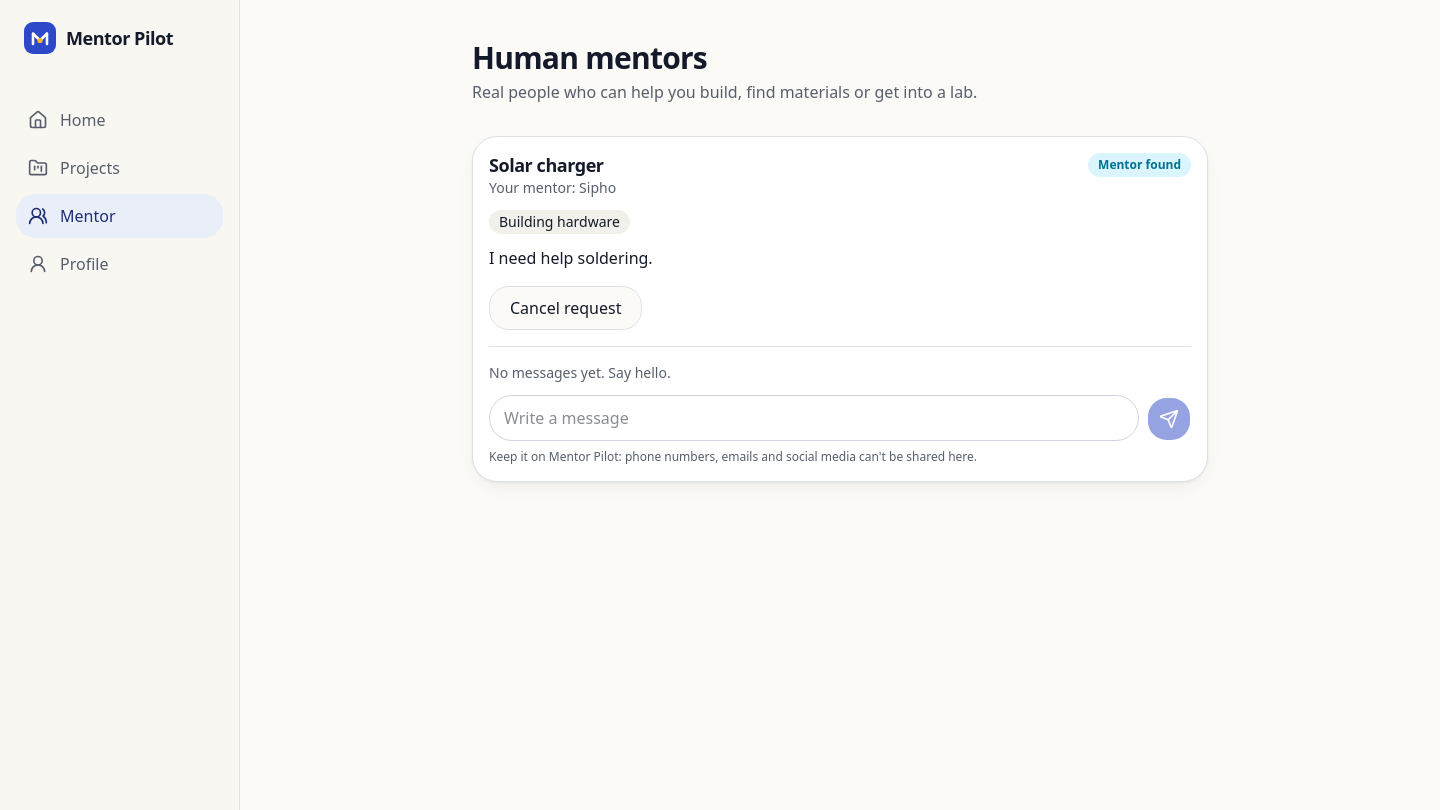
Test: learner and mentor messaging › explains why a message with contact details was refused
Type "Call me on 082 555 0142" into the text box labelled "message" at [814, 418], box [489,395,1139,441]
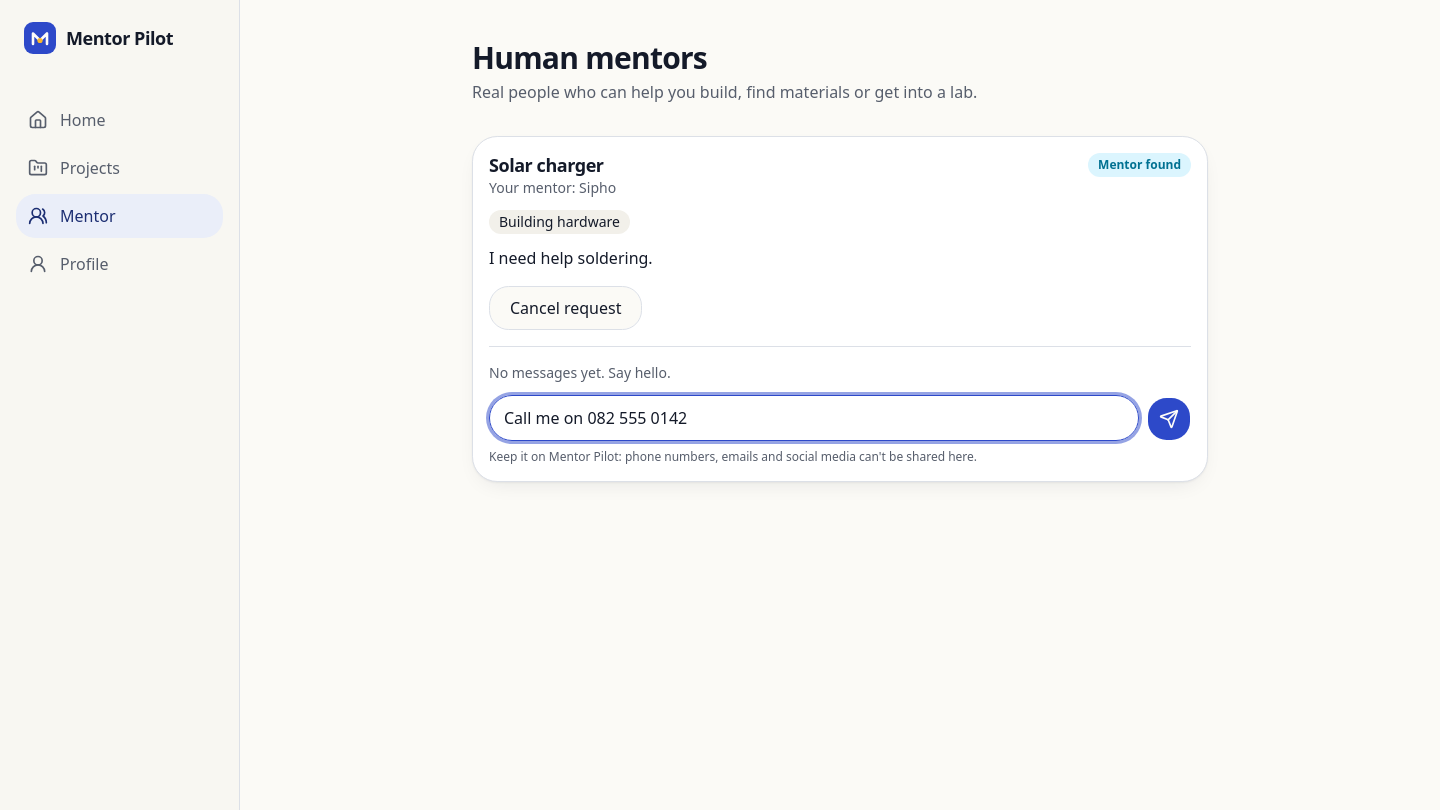
Click the button named "Send" at [1169, 419], box [1147,397,1191,441]
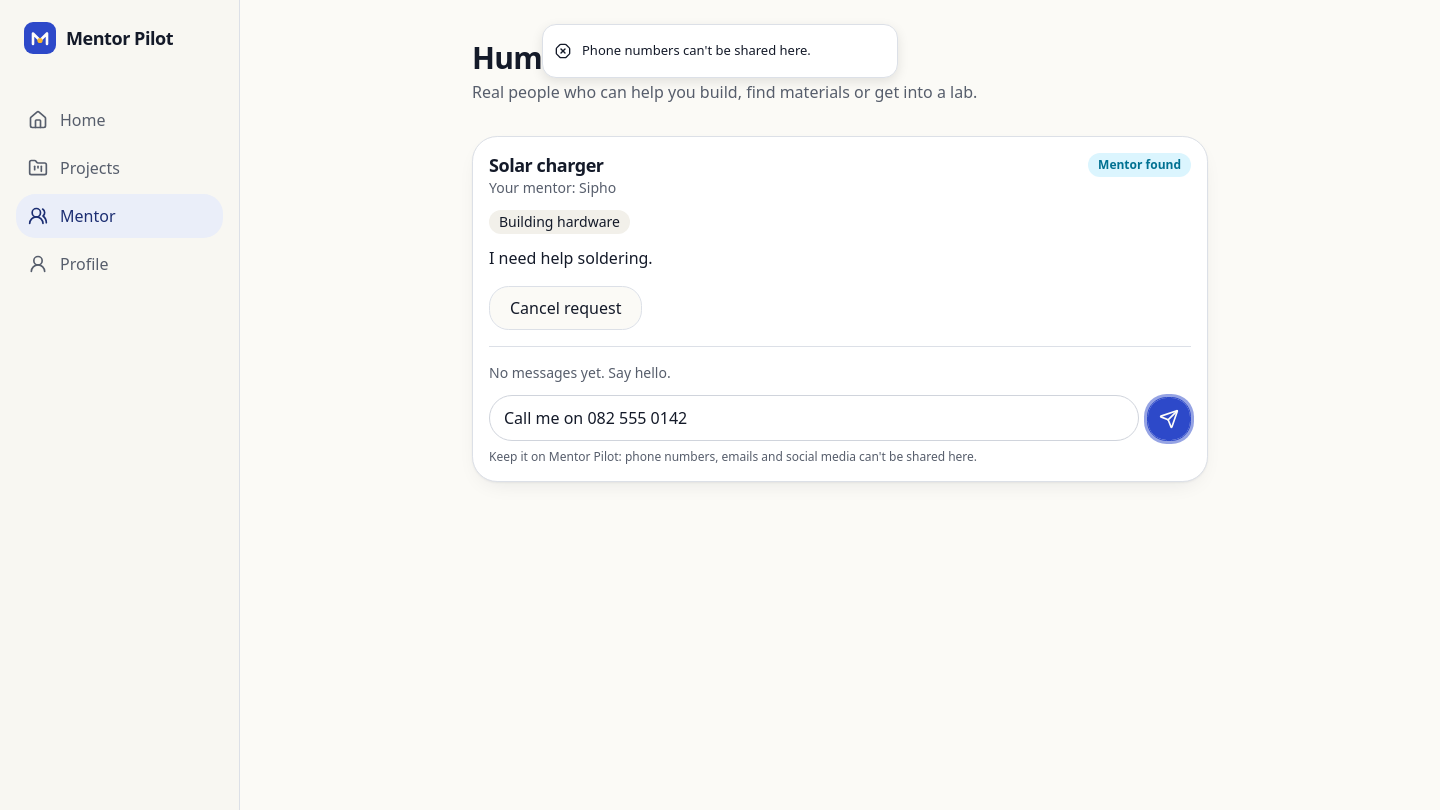
Now the text "Phone numbers can't be shared here." is shown, box [582,41,811,60]
